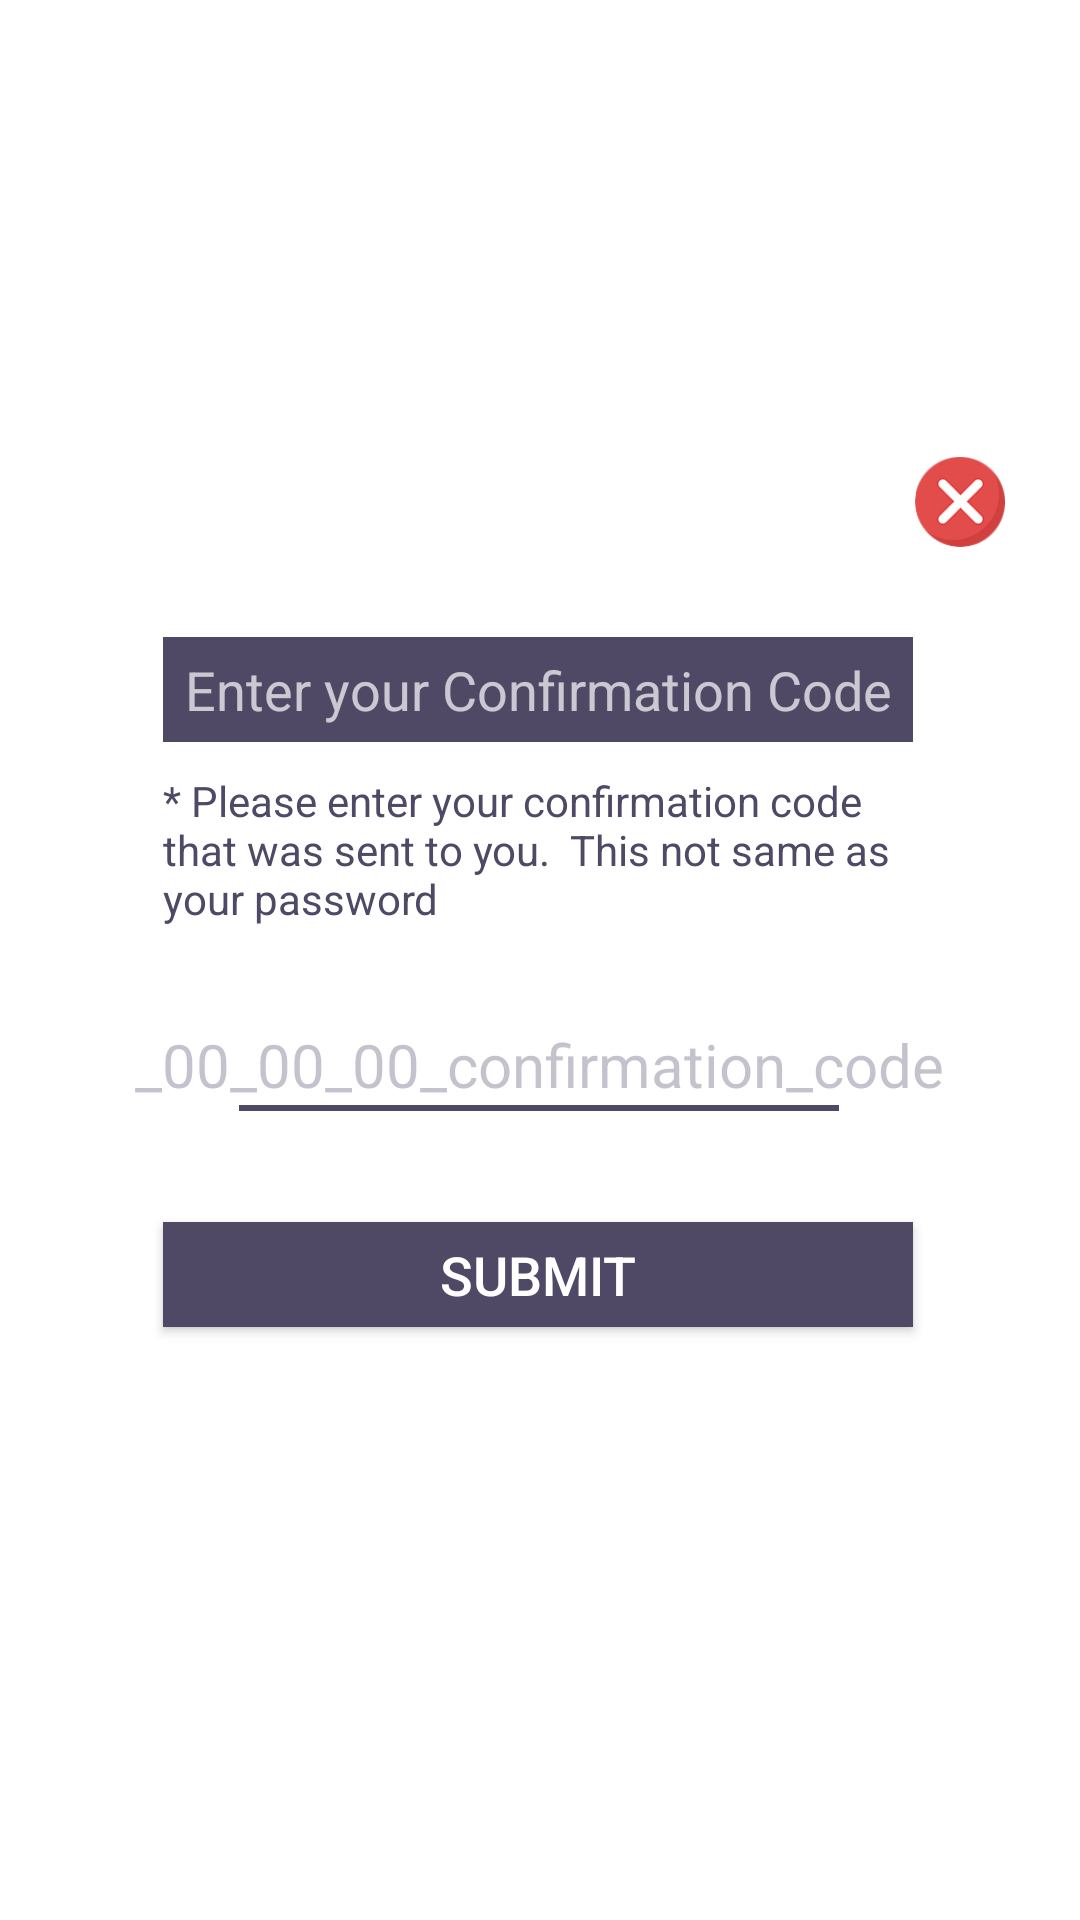

Where to tap for icons on this 1080*1920 app screen, as [x,y]:
crossicon: [960,502]
